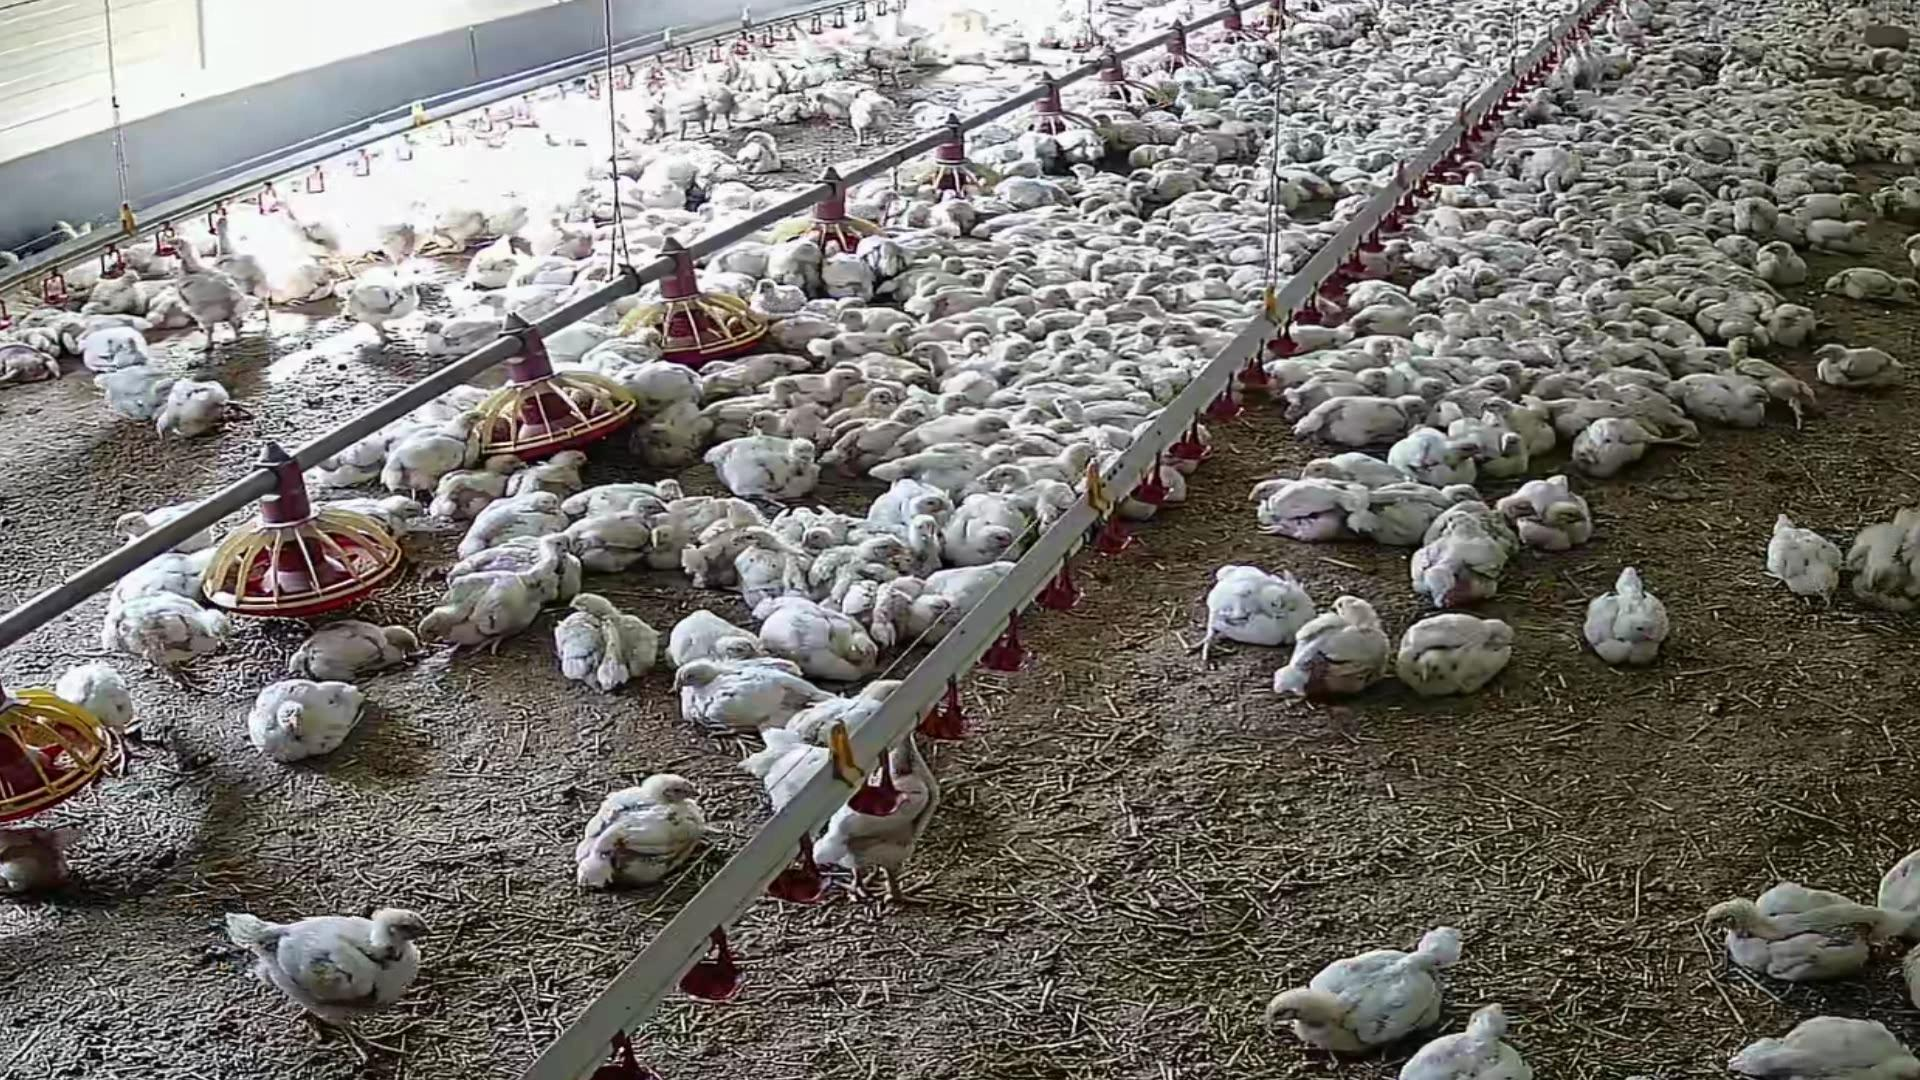poussin: (220, 902, 433, 1062), (757, 728, 916, 910), (1267, 918, 1452, 1047), (1693, 876, 1907, 985), (570, 753, 707, 915), (425, 555, 559, 661), (1720, 1011, 1908, 1080), (1269, 592, 1387, 695), (1199, 558, 1313, 661), (1404, 994, 1532, 1080), (244, 679, 375, 756), (667, 671, 837, 729), (90, 608, 240, 673), (1394, 611, 1514, 690), (1706, 349, 1807, 440), (554, 600, 662, 683), (1844, 506, 1920, 624), (758, 599, 877, 674), (729, 527, 829, 615), (1584, 566, 1663, 675), (400, 409, 488, 504), (46, 671, 154, 746), (214, 214, 280, 334), (278, 618, 414, 676), (1419, 518, 1507, 607), (1249, 477, 1365, 545), (653, 496, 753, 574), (1353, 483, 1480, 542), (446, 537, 589, 588), (167, 244, 241, 343), (274, 194, 367, 273), (555, 501, 663, 568), (1770, 513, 1844, 611), (104, 551, 233, 607), (429, 450, 520, 527), (1300, 393, 1432, 446), (691, 500, 781, 576), (1582, 419, 1697, 479), (919, 563, 1023, 628), (1435, 498, 1545, 559), (456, 488, 551, 554), (348, 270, 425, 348), (1506, 479, 1593, 546), (666, 608, 781, 658), (829, 405, 923, 465), (716, 434, 823, 487), (1665, 372, 1767, 427), (1811, 338, 1920, 388), (0, 822, 73, 895), (578, 472, 699, 516), (947, 488, 1031, 550), (157, 384, 243, 444), (857, 509, 948, 566), (1389, 439, 1484, 493), (878, 447, 1007, 487), (1286, 368, 1391, 413), (1507, 400, 1618, 440), (1275, 338, 1393, 376), (1098, 448, 1183, 501), (579, 323, 665, 375), (512, 442, 588, 498), (699, 356, 793, 402), (608, 360, 702, 406), (928, 268, 1017, 315), (856, 567, 906, 650), (633, 406, 707, 462), (1311, 448, 1407, 491), (1117, 345, 1191, 400), (320, 429, 377, 498), (1014, 243, 1106, 285), (818, 323, 918, 361), (715, 378, 795, 426), (1880, 841, 1920, 938), (853, 524, 926, 574), (1486, 400, 1555, 452), (117, 510, 218, 546), (1589, 382, 1668, 427), (764, 371, 862, 406), (92, 375, 170, 419), (843, 90, 898, 152), (1569, 348, 1677, 380), (1399, 219, 1494, 255), (70, 324, 145, 369), (452, 236, 520, 286), (1635, 302, 1702, 352), (1259, 160, 1333, 204), (919, 344, 1007, 381), (76, 273, 157, 313), (414, 320, 509, 353), (790, 504, 857, 550), (777, 232, 828, 291), (1756, 241, 1817, 291), (0, 343, 62, 392), (1598, 322, 1680, 359), (816, 243, 873, 295), (1431, 298, 1516, 332), (1021, 442, 1097, 480), (1437, 378, 1511, 418), (1349, 295, 1414, 340), (1443, 220, 1527, 255), (1709, 299, 1770, 347), (1516, 140, 1571, 193), (1486, 316, 1557, 356), (1221, 177, 1303, 211), (843, 305, 920, 340), (982, 175, 1073, 206), (910, 418, 1005, 447), (1573, 327, 1634, 372), (869, 477, 955, 509), (1131, 166, 1211, 200), (477, 295, 575, 323), (996, 465, 1067, 502), (541, 320, 620, 353), (913, 272, 990, 305), (723, 235, 779, 280), (1096, 109, 1158, 150), (969, 401, 1060, 429), (1672, 131, 1745, 165), (1792, 186, 1874, 216), (1150, 298, 1254, 322), (1822, 270, 1920, 295), (1801, 222, 1873, 256), (1007, 127, 1065, 167), (1735, 199, 1792, 240), (758, 276, 808, 322), (890, 189, 943, 232), (1054, 396, 1155, 418), (1151, 280, 1237, 306), (1051, 393, 1102, 436), (818, 537, 894, 566), (1250, 220, 1309, 257), (1182, 121, 1233, 164), (857, 235, 914, 273), (895, 257, 967, 287), (992, 287, 1077, 313), (992, 430, 1065, 459), (1727, 270, 1784, 307), (1133, 295, 1199, 327), (381, 214, 427, 258), (757, 407, 844, 431), (840, 389, 895, 426), (674, 83, 713, 135), (837, 191, 897, 225), (705, 269, 764, 303), (1031, 302, 1110, 327), (616, 228, 678, 260), (931, 190, 973, 236), (1406, 315, 1472, 344), (1035, 195, 1104, 223), (537, 228, 608, 255), (1023, 352, 1088, 381), (707, 80, 745, 129), (808, 86, 858, 123), (971, 212, 1048, 236), (1787, 170, 1857, 196), (1106, 273, 1167, 303), (861, 175, 924, 204), (1213, 243, 1279, 270), (1054, 129, 1102, 166), (1182, 128, 1217, 178), (910, 91, 953, 132), (971, 255, 1031, 284), (1093, 185, 1151, 215), (1654, 228, 1709, 260), (489, 203, 542, 236), (749, 121, 782, 174), (1209, 103, 1250, 145), (1411, 58, 1473, 86), (1503, 359, 1557, 390), (978, 149, 1034, 179), (853, 357, 932, 378), (702, 356, 815, 371), (1077, 327, 1139, 353), (582, 196, 650, 220), (1174, 75, 1221, 109), (1526, 301, 1590, 326), (773, 320, 849, 342), (1387, 380, 1448, 406), (945, 365, 990, 401), (426, 389, 492, 413), (1898, 947, 1920, 1015), (665, 220, 717, 249), (1162, 323, 1215, 352), (870, 37, 903, 83), (997, 224, 1079, 243), (1724, 171, 1780, 198), (1156, 228, 1218, 252), (804, 298, 873, 319), (1775, 302, 1808, 345), (1568, 36, 1600, 80), (744, 100, 806, 123), (972, 79, 1022, 107), (1549, 232, 1600, 260), (637, 99, 669, 142), (1076, 222, 1150, 240), (1164, 218, 1238, 236), (1565, 257, 1610, 287), (1491, 284, 1571, 301), (957, 120, 1011, 145), (1532, 206, 1582, 232), (1124, 145, 1179, 169), (1175, 61, 1212, 96), (1159, 199, 1241, 215), (902, 393, 967, 413), (1671, 287, 1730, 309), (1580, 293, 1658, 309), (1193, 261, 1286, 274), (1465, 160, 1511, 186), (1072, 165, 1129, 186), (1418, 269, 1458, 298), (1305, 129, 1349, 156), (1342, 175, 1386, 202), (1698, 257, 1749, 280), (1022, 335, 1083, 353), (1345, 277, 1406, 295), (927, 331, 986, 349), (1556, 41, 1575, 100), (1367, 55, 1412, 79), (1320, 206, 1360, 232), (1474, 179, 1520, 202), (1141, 120, 1196, 138), (964, 309, 1023, 326), (1216, 204, 1291, 218), (1461, 266, 1501, 291), (1220, 61, 1261, 84), (1290, 25, 1328, 50), (1084, 417, 1150, 431), (1142, 323, 1184, 345), (1298, 7, 1342, 28), (1592, 138, 1636, 160), (1688, 191, 1738, 210), (990, 342, 1043, 359), (1654, 206, 1706, 223), (1568, 196, 1610, 218), (1898, 229, 1920, 269), (993, 382, 1030, 406), (1142, 69, 1178, 92), (948, 247, 1039, 256), (1315, 0, 1357, 20), (1429, 187, 1472, 207), (1056, 364, 1146, 373), (1896, 174, 1920, 208), (1216, 38, 1246, 65), (22, 313, 69, 330), (1519, 264, 1564, 281), (1659, 154, 1691, 178), (1543, 166, 1565, 198), (1374, 136, 1431, 148), (1236, 232, 1274, 249), (1221, 112, 1259, 129), (1356, 152, 1402, 165), (1234, 83, 1259, 107), (1246, 34, 1271, 58), (1498, 210, 1543, 223), (1255, 108, 1287, 127), (1370, 127, 1414, 140), (1175, 268, 1204, 286), (1626, 206, 1655, 224), (1261, 61, 1282, 84), (1283, 86, 1328, 96), (1625, 264, 1667, 274), (1613, 146, 1643, 161), (1327, 69, 1362, 80), (1307, 59, 1344, 70), (1201, 269, 1232, 281), (1350, 100, 1387, 109), (1631, 268, 1656, 280), (1385, 115, 1429, 121), (1280, 82, 1317, 88), (1261, 268, 1305, 269)
